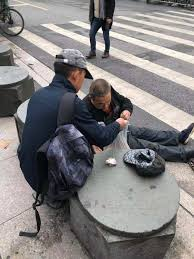fall: (83, 71, 190, 164)
